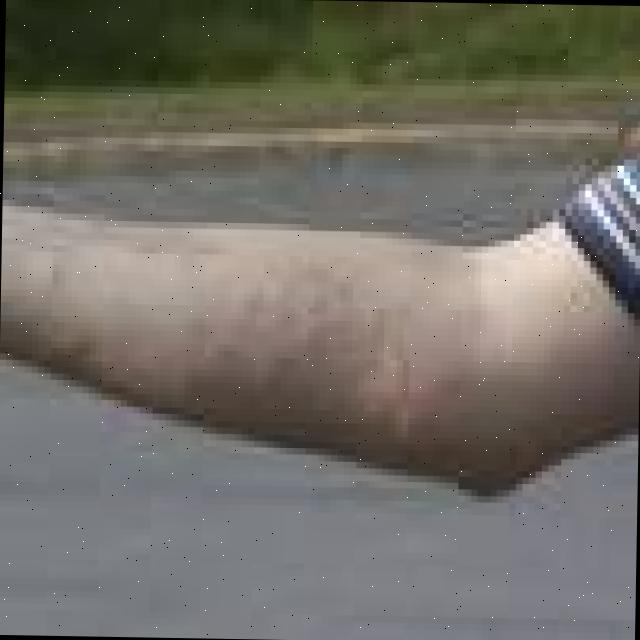kan emici bocekler: (351, 353, 420, 431)
